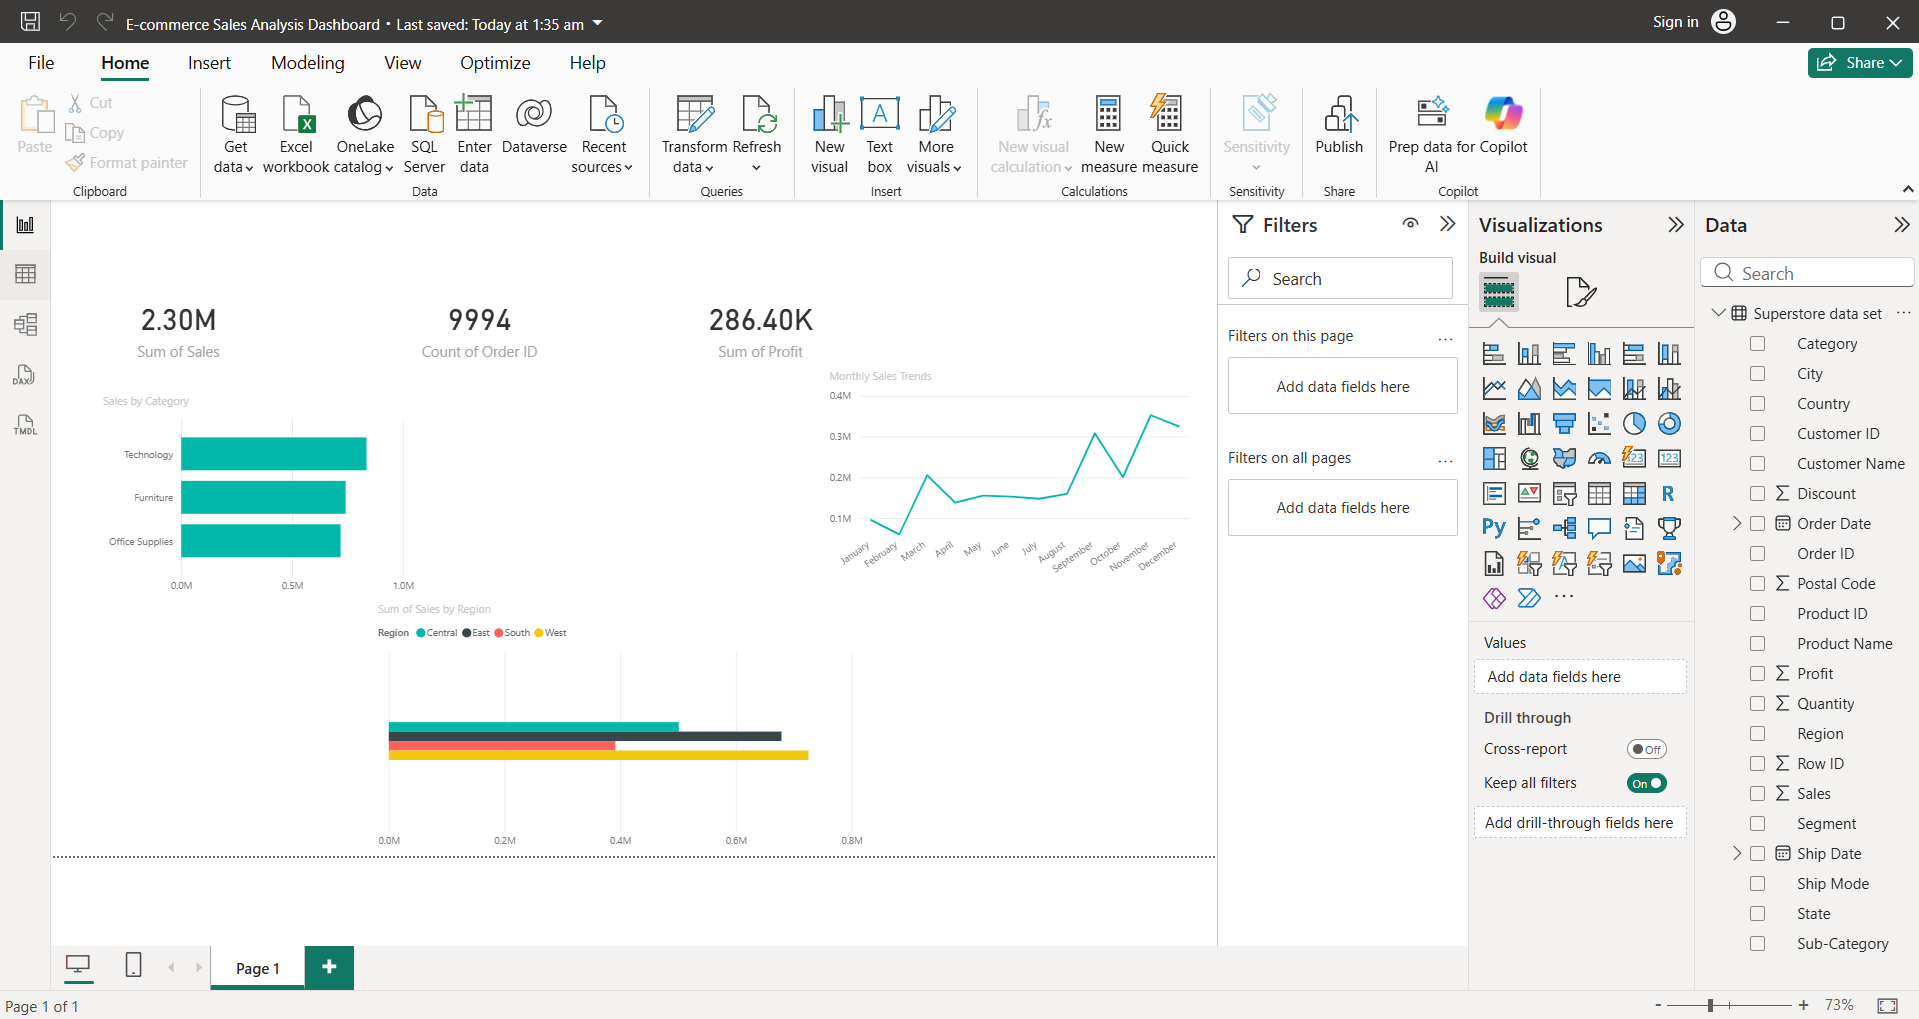

This screenshot's page, from the dashboard's own definition file:
{"tool":"powerbi","page":{"name":"Page 1","canvas":[1280,720],"ordinal":0},"visuals":[{"type":"card","fields":{"Values":["Sum(Superstore data set.Sales)"]},"box":[0,0,279.9,279.9],"z":0},{"type":"card","fields":{"Values":["Sum(Superstore data set.Profit)"]},"box":[639.5,0,279.9,279.9],"z":1},{"type":"card","fields":{"Values":["CountNonNull(Superstore data set.Order ID)"]},"box":[330.7,0,279.9,279.9],"z":2},{"type":"clusteredBarChart","fields":{"Series":["Superstore data set.Region"],"Y":["Sum(Superstore data set.Sales)"]},"box":[354,440.5,542,279.9],"z":3},{"type":"clusteredBarChart","title":"Sales by Category","fields":{"Category":["Superstore data set.Category"],"Y":["Sum(Superstore data set.Sales)"]},"box":[52.1,212.7,351.3,227.8],"z":4},{"type":"lineChart","title":"Monthly Sales Trends","fields":{"Category":["Superstore data set.Order Date.Variation.Date Hierarchy.Month"],"Y":["Sum(Superstore data set.Sales)"]},"box":[849.4,185.2,406.2,237.4],"z":5}]}

Visuals, with their boxes on the page's 1280x720 design canvas (x1, y1, x2, y2). These are canvas units, not pixel positions in the 1919x1019 screenshot, which may show the page scaled, cropped or inside an application window:
card - Sum(Superstore data set.Sales): box(0, 0, 280, 280)
card - Sum(Superstore data set.Profit): box(640, 0, 919, 280)
card - CountNonNull(Superstore data set.Order ID): box(331, 0, 611, 280)
clusteredBarChart - Superstore data set.Region x Sum(Superstore data set.Sales): box(354, 440, 896, 720)
"Sales by Category" clusteredBarChart: box(52, 213, 403, 440)
"Monthly Sales Trends" lineChart: box(849, 185, 1256, 423)
